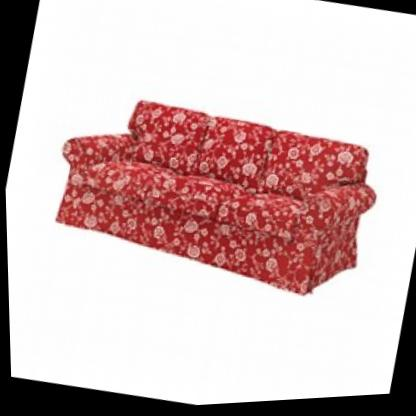Sofa: (31, 52, 392, 321)
